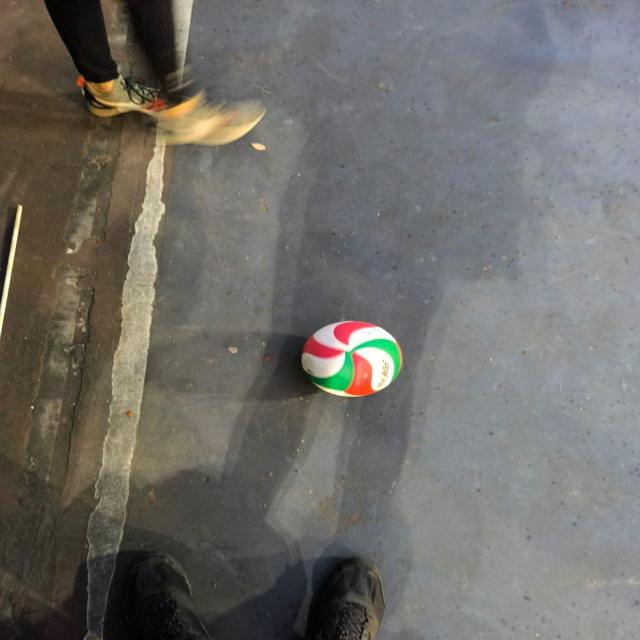volleyball: (302, 320, 403, 397)
